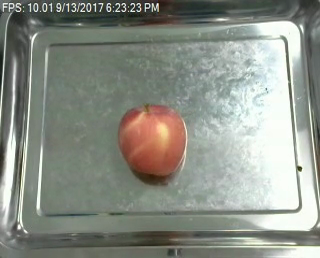Apple: (115, 101, 189, 179)
